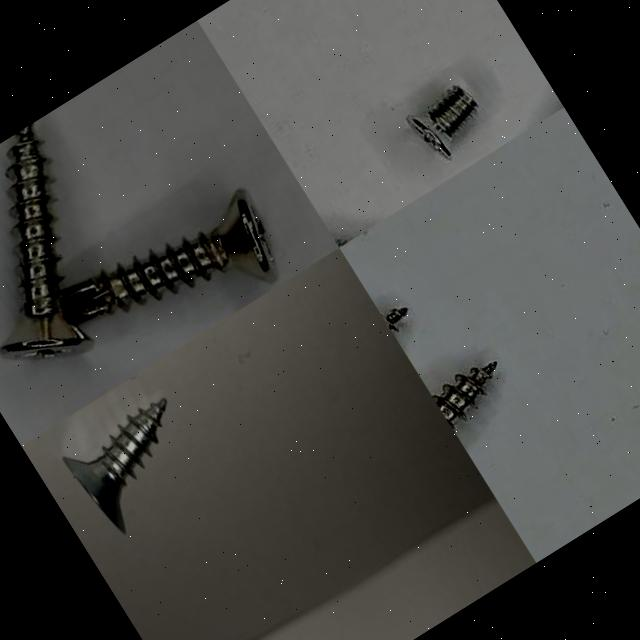Screw: (60, 188, 277, 326), (0, 123, 92, 359), (63, 398, 166, 534), (405, 84, 478, 159), (432, 362, 496, 430)
